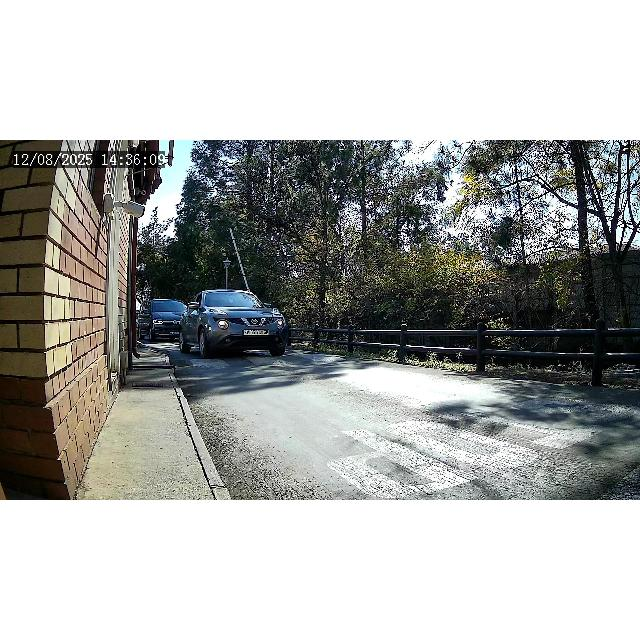car: (178, 288, 290, 358), (136, 297, 188, 349)
plate: (242, 328, 270, 336)
